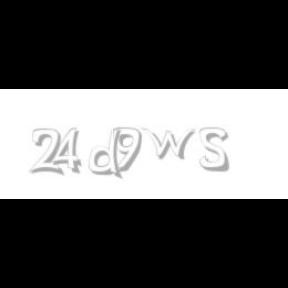2: (28, 128, 62, 176)
4: (50, 128, 82, 174)
9: (112, 128, 142, 172)
S: (200, 128, 230, 172)
d: (88, 128, 126, 180)
w: (142, 128, 200, 160)
